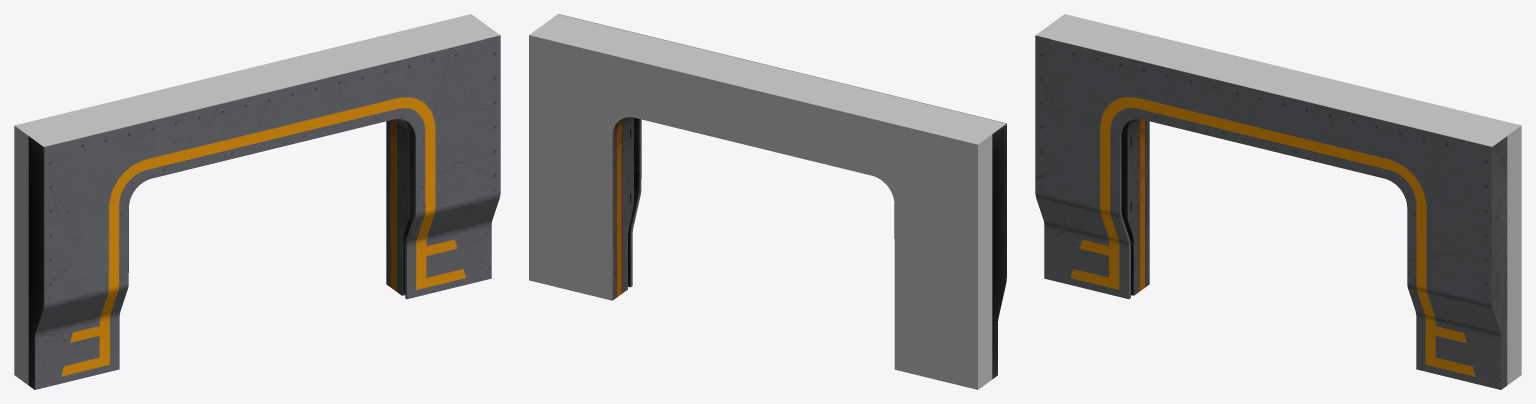
Rendered from SM_HangarWall01.fbx.
3 renders of one model, left to right at view 1: azimuth 30°, elevation 25°; view 2: azimuth 150°, elevation 25°; view 3: azimuth 330°, elevation 25°, orthographic.
Visible parts, largest first — view 1: SM_HangarWall01_LOD0; view 2: SM_HangarWall01_LOD0; view 3: SM_HangarWall01_LOD0.
Boxes of the visible parts, x1,y1,x2,y2 form: SM_HangarWall01_LOD0: (14,14,500,389); SM_HangarWall01_LOD0: (529,14,1006,389); SM_HangarWall01_LOD0: (1035,14,1521,389).
Size of the model in its own units: 1200 by 135 by 627.
2 materials, 1 textured.
